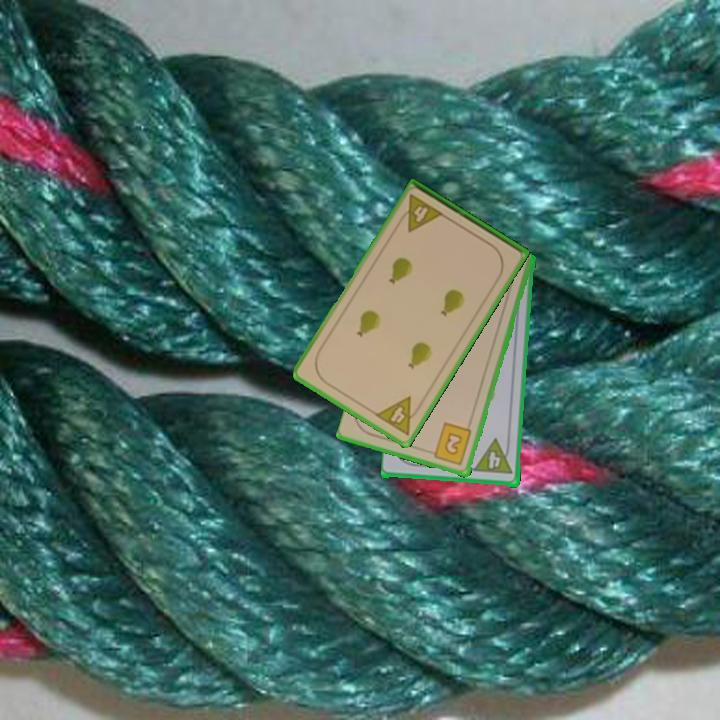2b: (425, 420, 475, 468)
4p: (372, 393, 425, 438), (394, 191, 446, 235), (471, 437, 505, 473)
